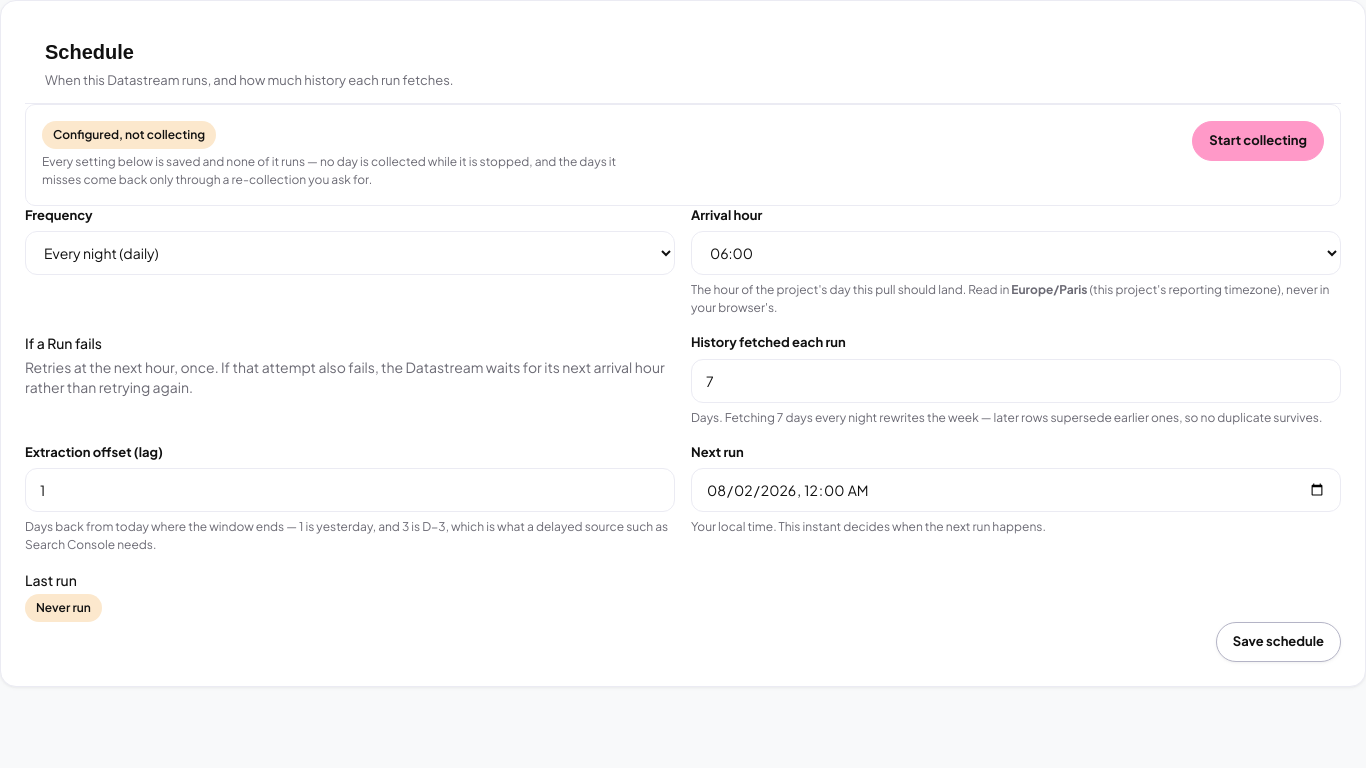
SchedulePanel › starts it, and reports the state the server answered
Click the button with test id "schedule-arm": (1258, 140) 1192,120 -> 1324,160
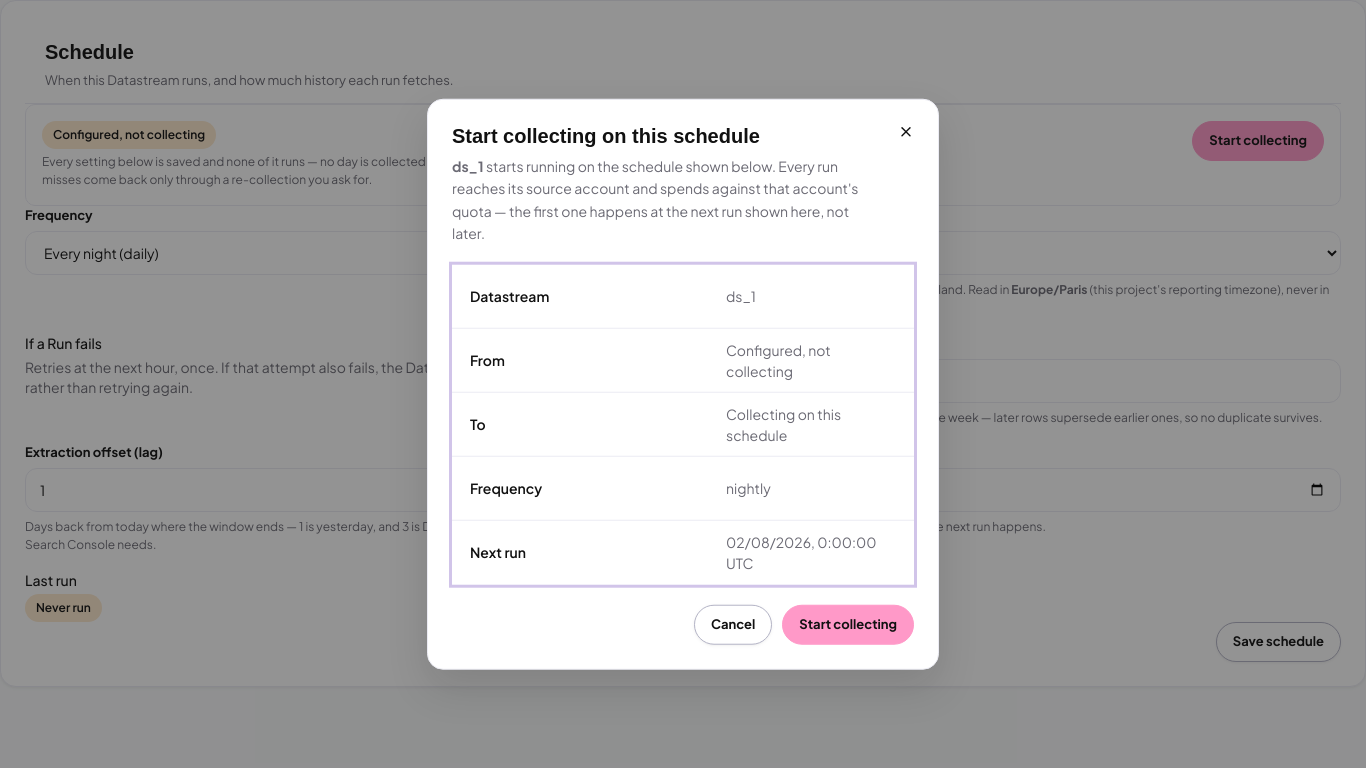
Click the button with test id "schedule-arm-confirm-accept": (848, 624) 782,604 -> 914,644
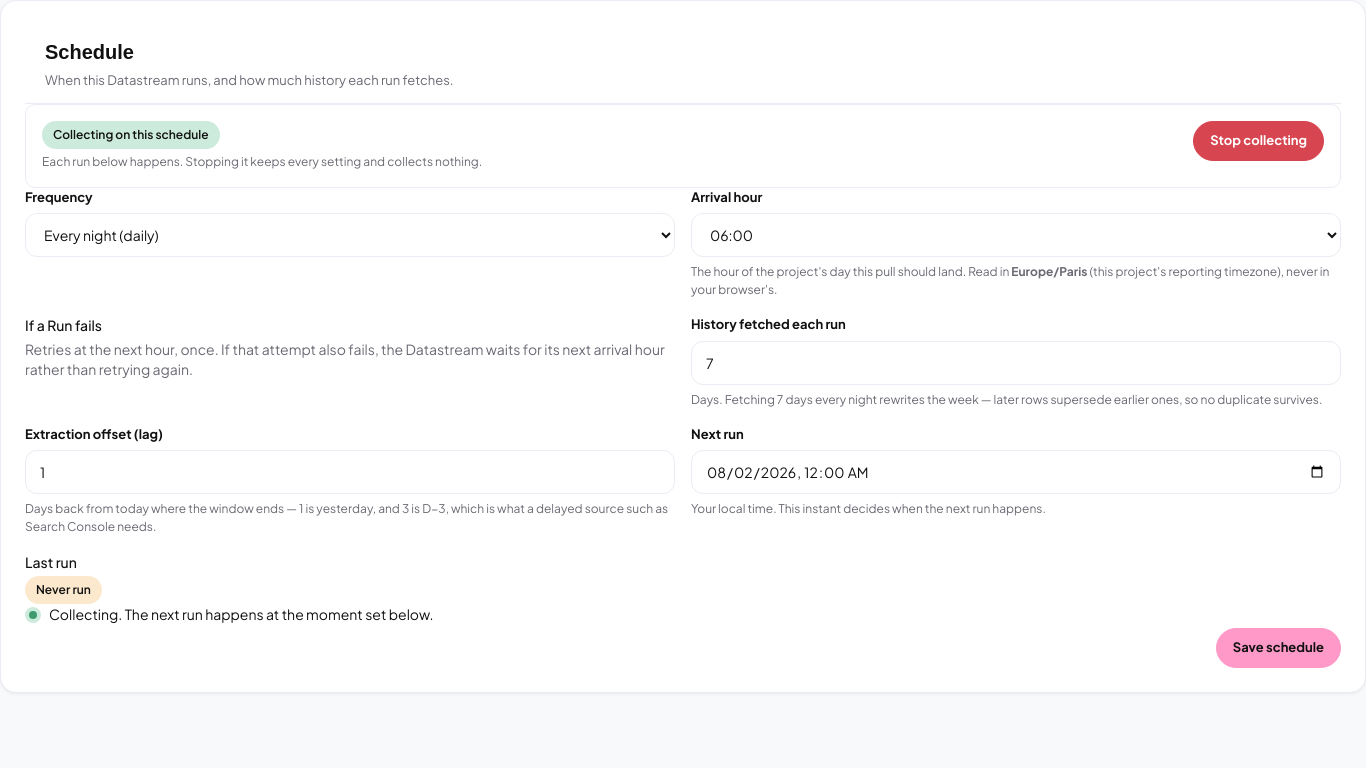
Now the element with test id "schedule-run-state" shows "Collecting on this schedule", box 53,126 -> 209,142
